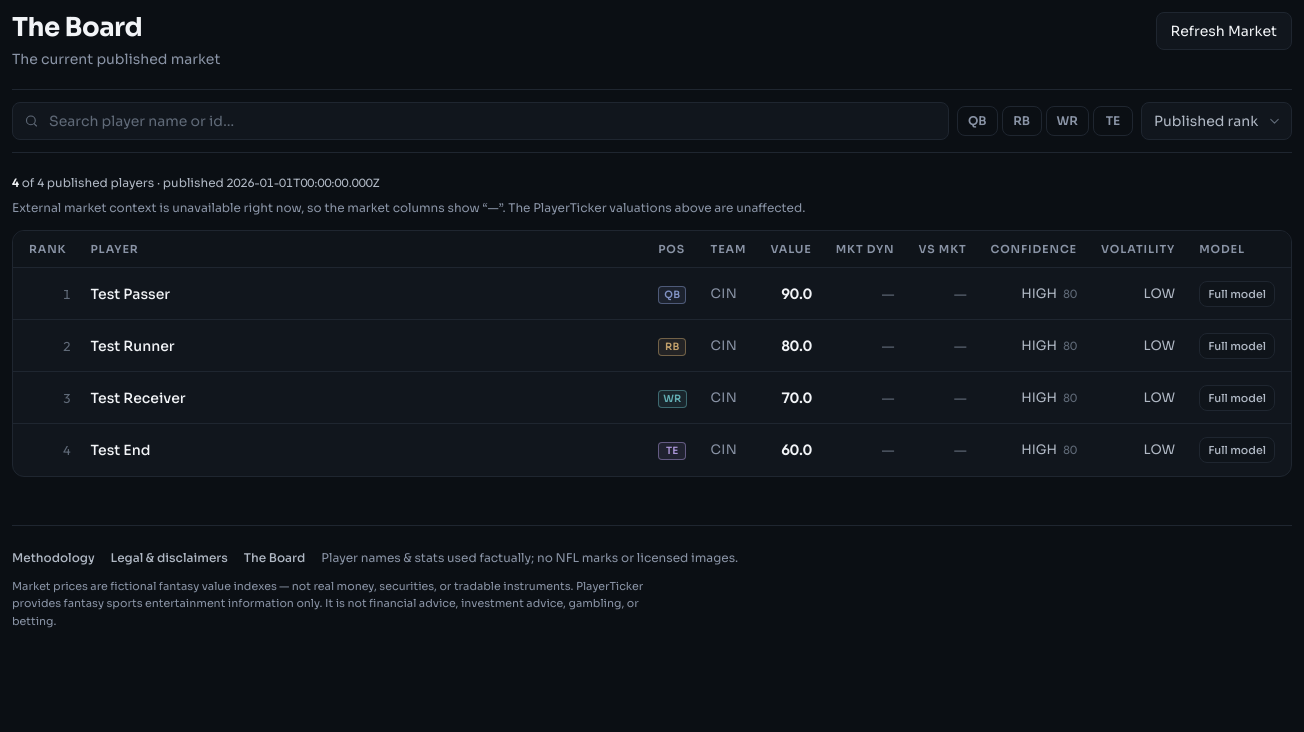
Test case: The Board — search, filters and sorting over published data › filters by position
Click the button "WR": click(1067, 120) x1=1046 y1=106 x2=1089 y2=136
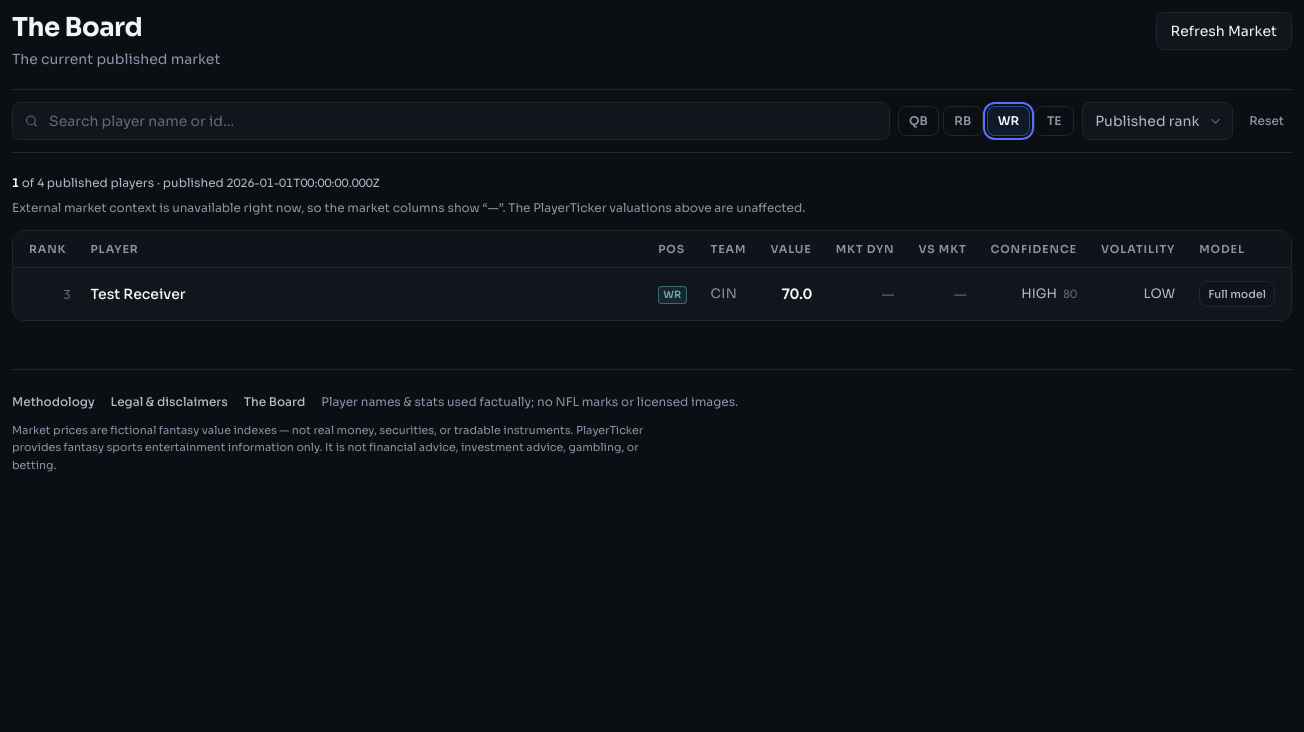
Expected: the text "Test Receiver" is shown, x1=90 y1=285 x2=186 y2=303
Now the message shows "1 of 4 published players", box x1=12 y1=174 x2=380 y2=190
Now the text "Test Passer" is gone
